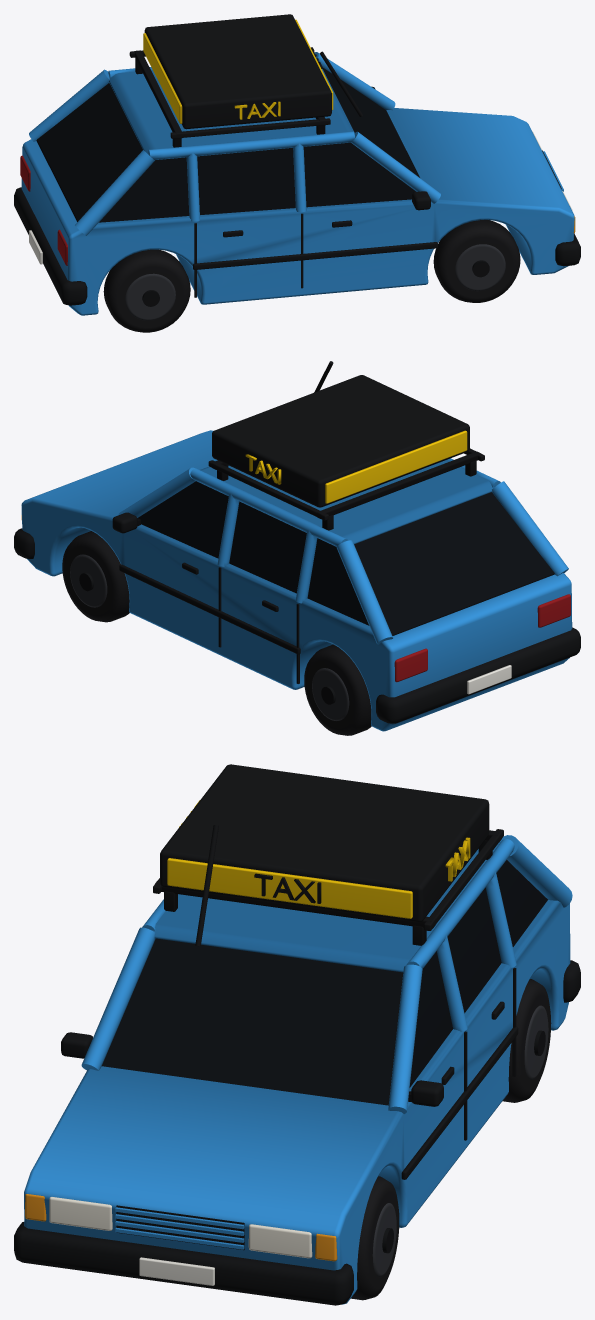
File: piece-1.glb
The picture shows the model from 3 angles, top to bottom: view 1: azimuth 30°, elevation 25°; view 2: azimuth 150°, elevation 25°; view 3: azimuth 270°, elevation 25°; orthographic projection. The views are drawn at different scales.
Parts seen in each view (by area): view 1: Outline; view 2: Outline; view 3: Outline.
Part boxes in pixels (x1=…): Outline: x1=14, y1=14, x2=580, y2=332; Outline: x1=14, y1=361, x2=580, y2=735; Outline: x1=14, y1=764, x2=580, y2=1305.
Bounding box in the file's own units: 2.12 × 0.9834 × 1.43.
